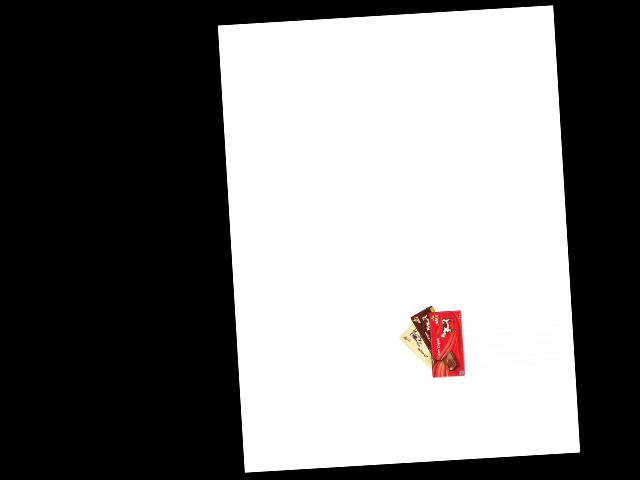chocolate: (397, 314, 438, 377)
